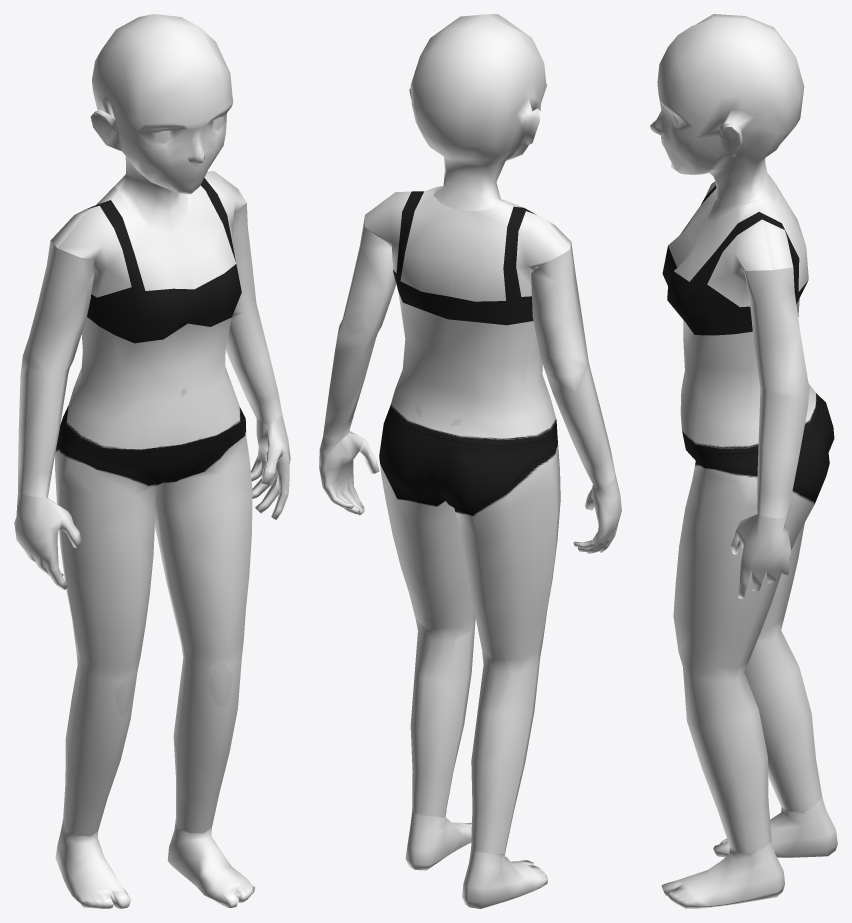
File: StandingFemale00.glb
The picture shows the model from 3 angles, left to right: view 1: azimuth 30°, elevation 25°; view 2: azimuth 150°, elevation 25°; view 3: azimuth 270°, elevation 25°; orthographic projection. The views are drawn at different scales.
Visible parts, largest first — view 1: Female_Obj; view 2: Female_Obj; view 3: Female_Obj.
Part boxes in pixels (x1,y1,x2,y2): Female_Obj: (14,14,290,908); Female_Obj: (319,14,621,908); Female_Obj: (650,14,837,908).
Size of the model in its own units: 0.6456 by 1.9 by 0.3756.
Materials: 2 (2 with a texture image).
